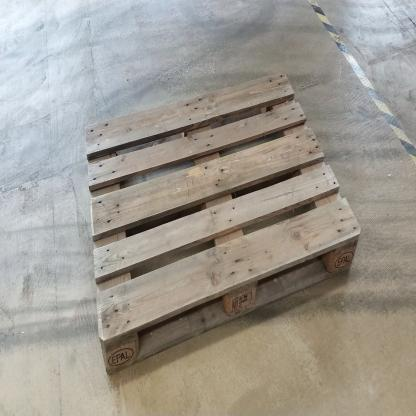BoxFace: (80, 66, 366, 386)
